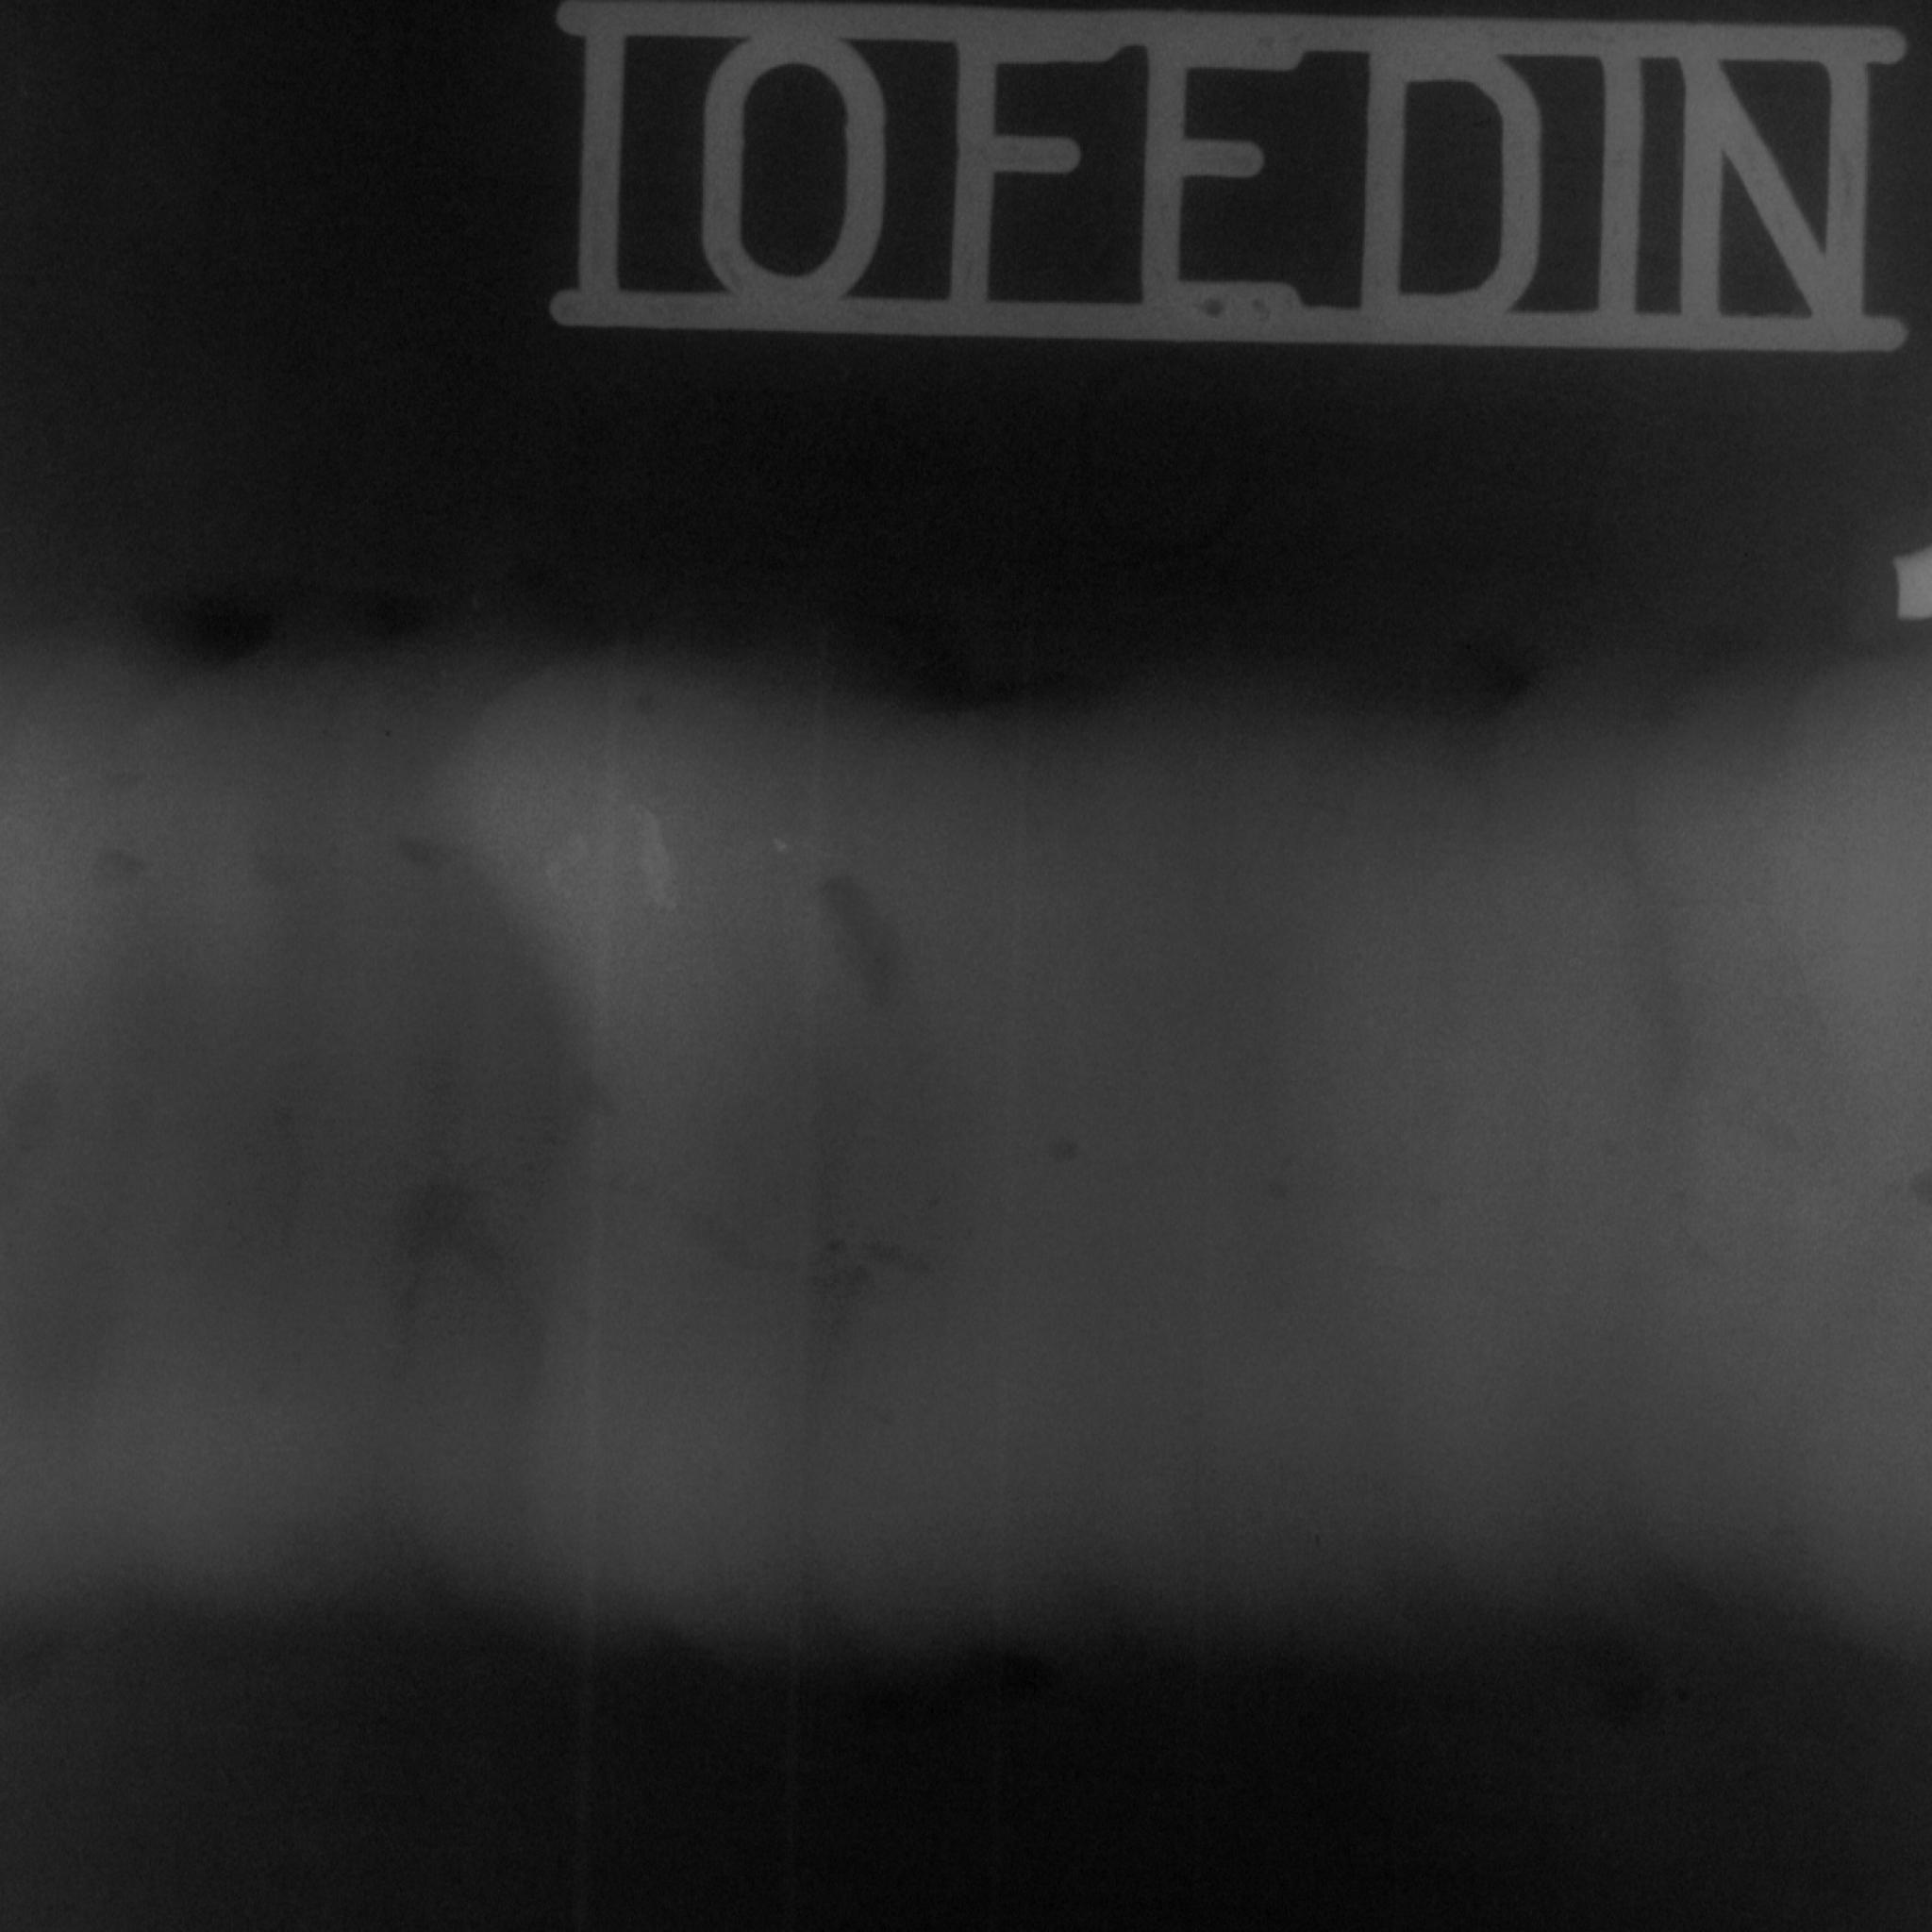Solda Ruim: (0, 508, 1932, 1874)
